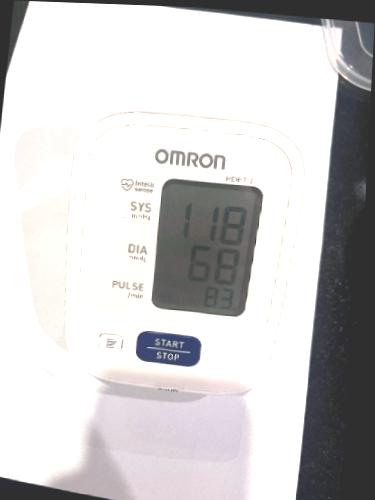bpm: (145, 175, 265, 320)
